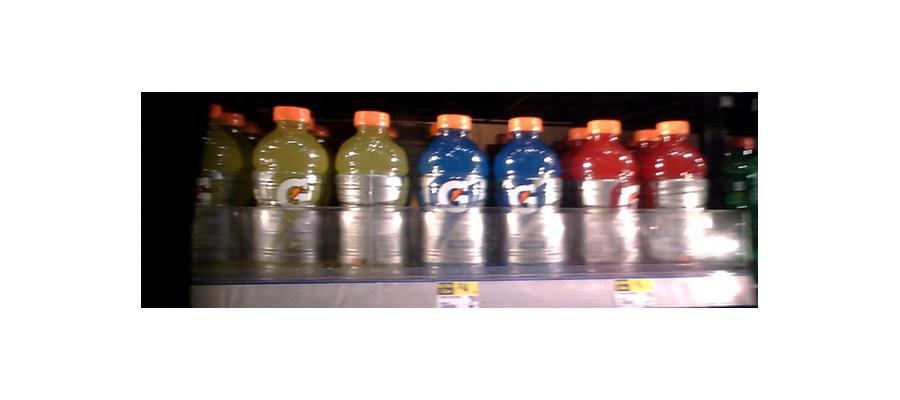bottle: (250, 101, 326, 279), (333, 108, 410, 278), (417, 111, 487, 281), (492, 113, 564, 277), (574, 118, 637, 278), (642, 119, 707, 270), (195, 101, 246, 269)
